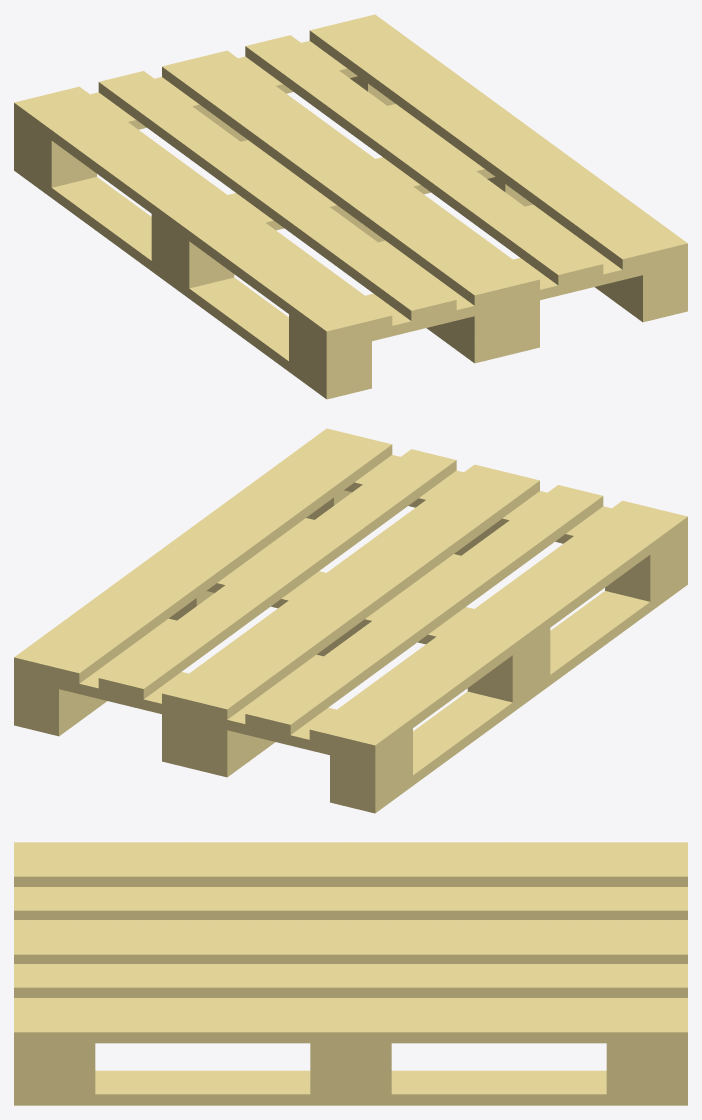
The model's file is PALETE.glb.
The picture shows the model from 3 angles, top to bottom: view 1: azimuth 30°, elevation 25°; view 2: azimuth 150°, elevation 25°; view 3: azimuth 270°, elevation 25°; orthographic projection. The views are drawn at different scales.
Parts seen in each view (by area): view 1: node_id3; view 2: node_id3; view 3: node_id3.
Boxes of the visible parts, <box> form: node_id3: <box>14,14,687,399</box>; node_id3: <box>14,428,687,813</box>; node_id3: <box>14,842,687,1105</box>.
Bounding box in the file's own units: 0.3413 × 0.0614 × 0.512.
1 material, 1 textured.
